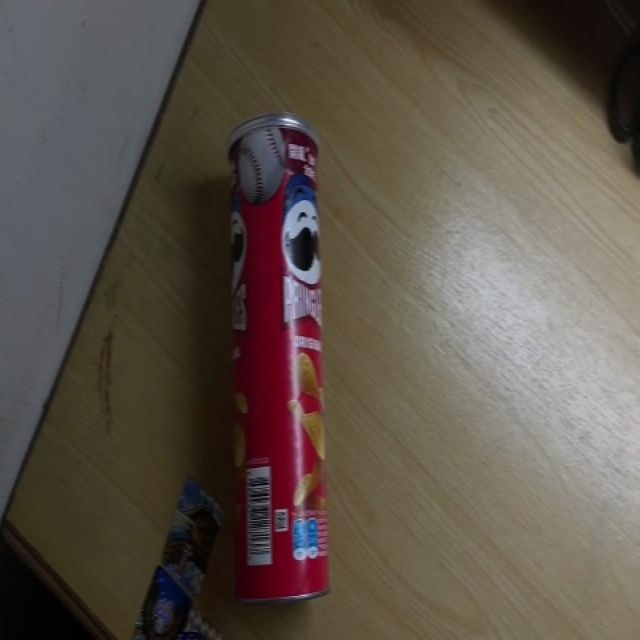Pringles: (227, 112, 331, 608)
